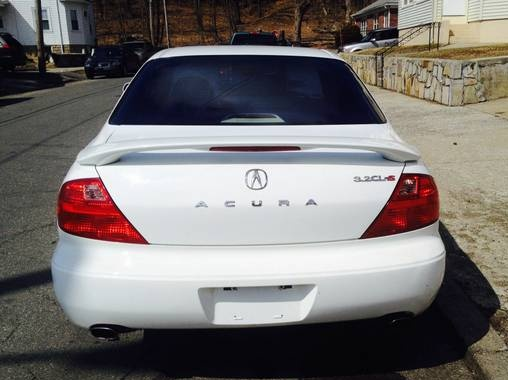acura: (39, 39, 457, 343)
